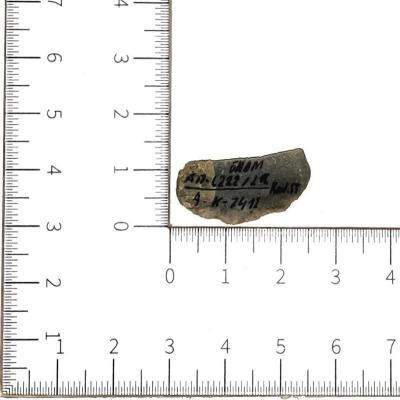archeology: (174, 148, 312, 227)
